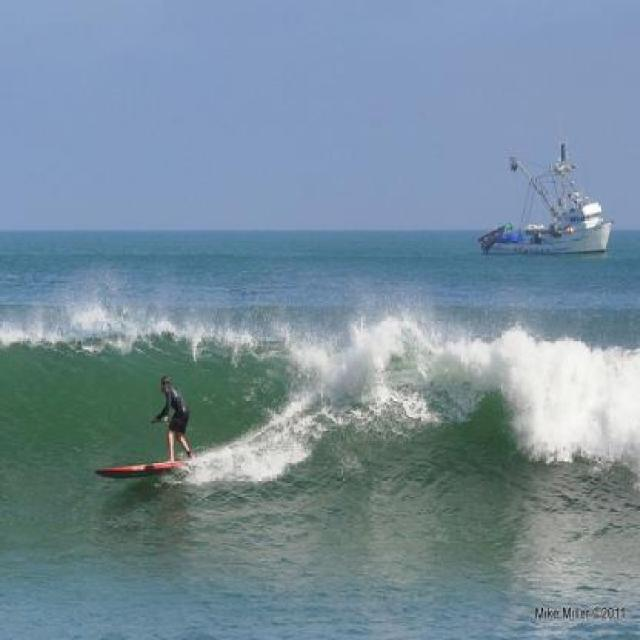ship: (477, 140, 614, 252)
